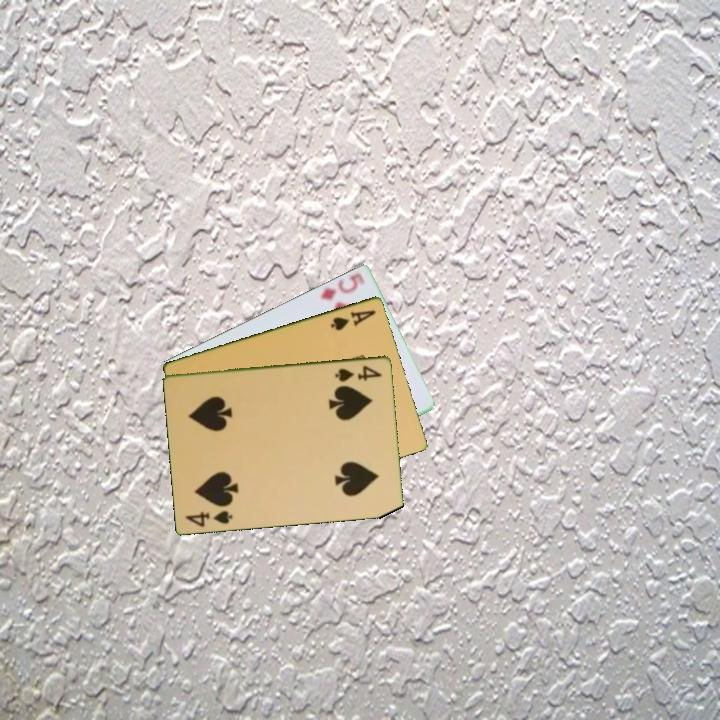4s: (182, 507, 236, 530), (331, 362, 385, 384)
5d: (317, 269, 365, 303)
As: (327, 306, 379, 333)
